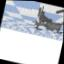drone: (30, 4, 64, 34)
